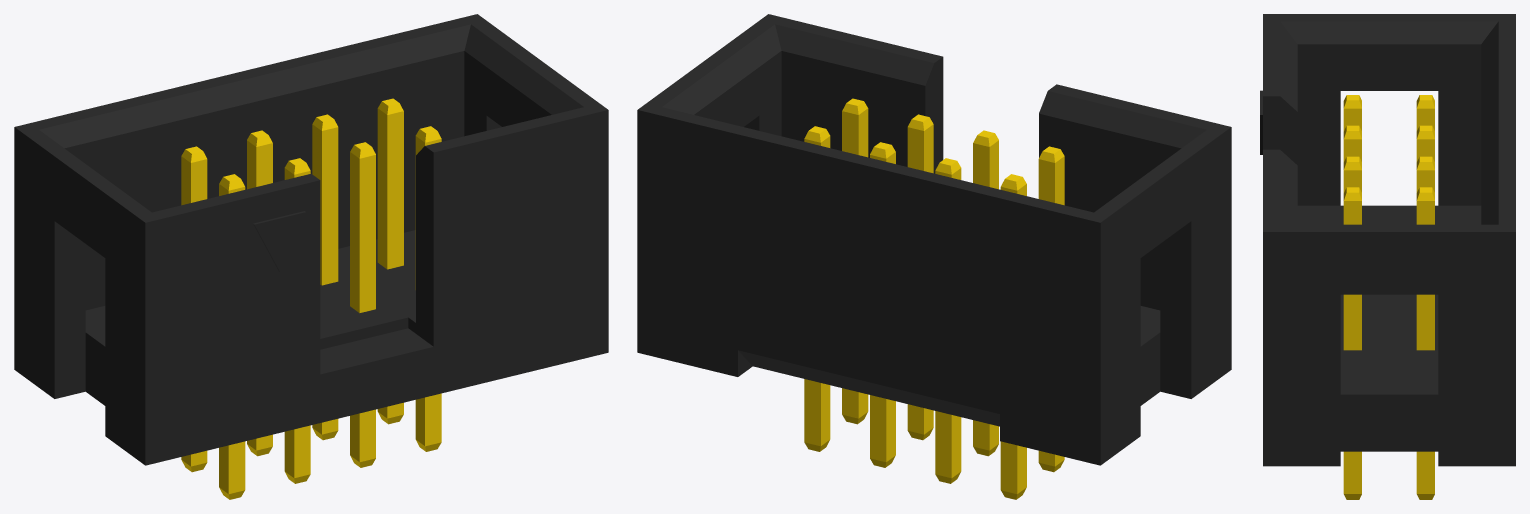
The picture shows the model from 3 angles, left to right: view 1: azimuth 30°, elevation 25°; view 2: azimuth 150°, elevation 25°; view 3: azimuth 270°, elevation 25°; orthographic projection. The views are drawn at different scales.
Parts seen in each view (by area): view 1: IDC (CONNFLY); view 2: IDC (CONNFLY); view 3: IDC (CONNFLY).
Part boxes in pixels (x1,y1,x2,y2): IDC (CONNFLY): (14, 14, 608, 499); IDC (CONNFLY): (637, 14, 1231, 499); IDC (CONNFLY): (1260, 14, 1515, 499).
Bounding box in the file's own units: 0.018 × 0.0126 × 0.0089.
